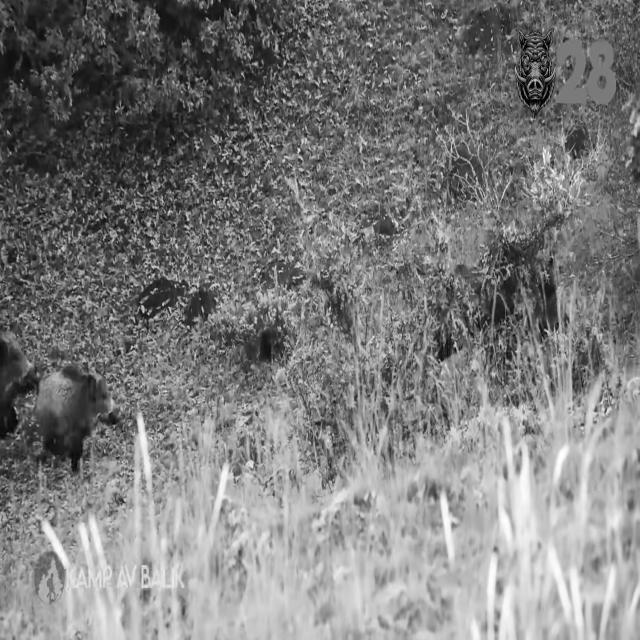boar: (36, 366, 117, 470), (0, 332, 37, 436), (516, 27, 557, 116)
